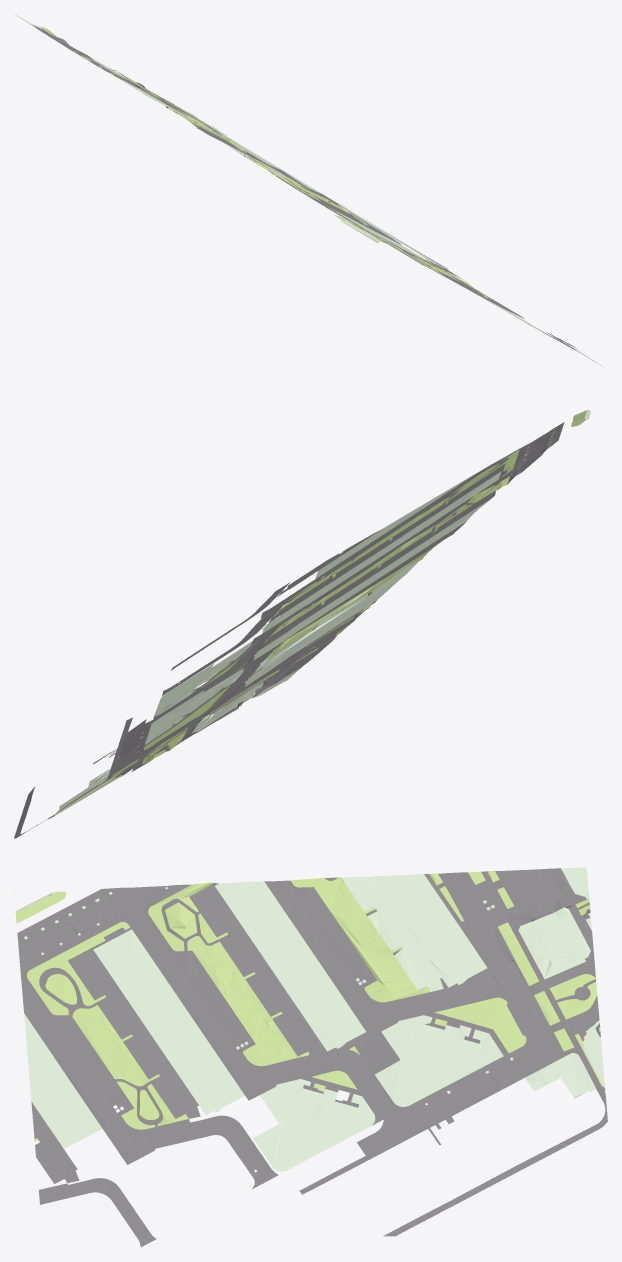
The picture shows the model from 3 angles, top to bottom: view 1: azimuth 30°, elevation 25°; view 2: azimuth 150°, elevation 25°; view 3: azimuth 270°, elevation 25°; orthographic projection. The views are drawn at different scales.
Bounding box in the file's own units: 156 × 110 × 258.
